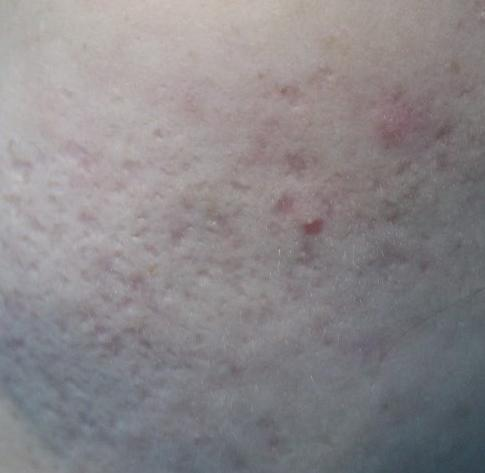acne_scars: (351, 247, 436, 294), (106, 264, 155, 328), (202, 202, 245, 254), (40, 371, 95, 410), (1, 147, 48, 191), (75, 205, 106, 262), (275, 139, 319, 178), (161, 221, 198, 263), (52, 303, 84, 346), (271, 192, 302, 218)
papular: (366, 111, 420, 156)
whitehead: (294, 210, 332, 239)
